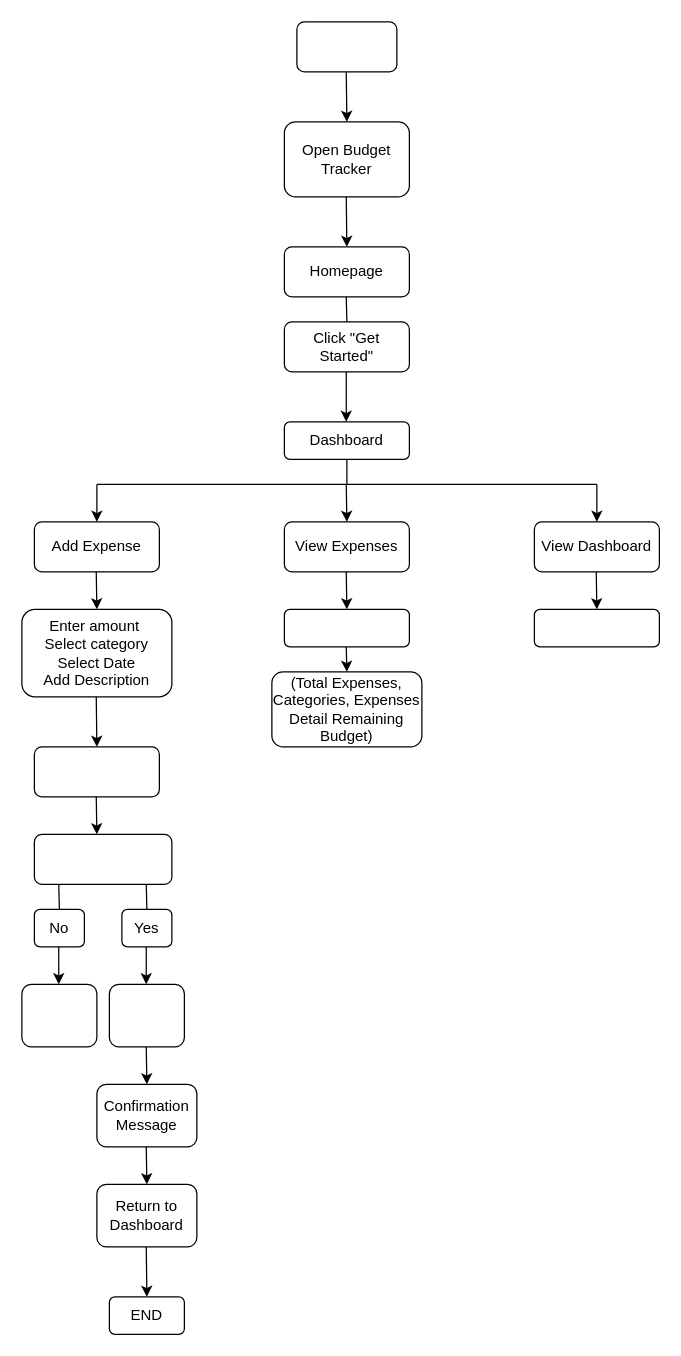
Some shapes in this 681 by 1356 pixel diagram are drawn without their labels. Each missing label, with the centre of its shape:
"Click Save" goes at (x=96, y=771).
"Save Expense" goes at (x=146, y=1015).
"Search/Filter" goes at (x=346, y=627).
"Show Error Message" goes at (x=59, y=1015).
"START" goes at (x=346, y=46).
"Validation (Complete?)" goes at (x=102, y=858).
"View Summary" goes at (x=596, y=627).
